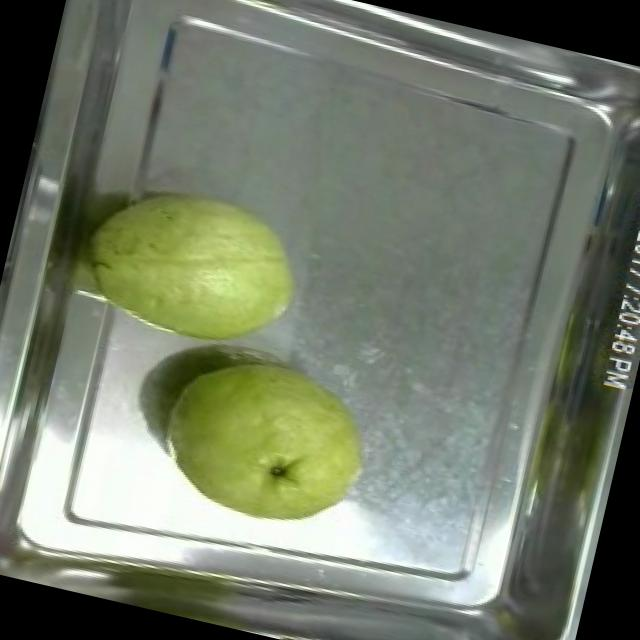Fruit: (142, 332, 393, 554), (68, 162, 325, 372)
